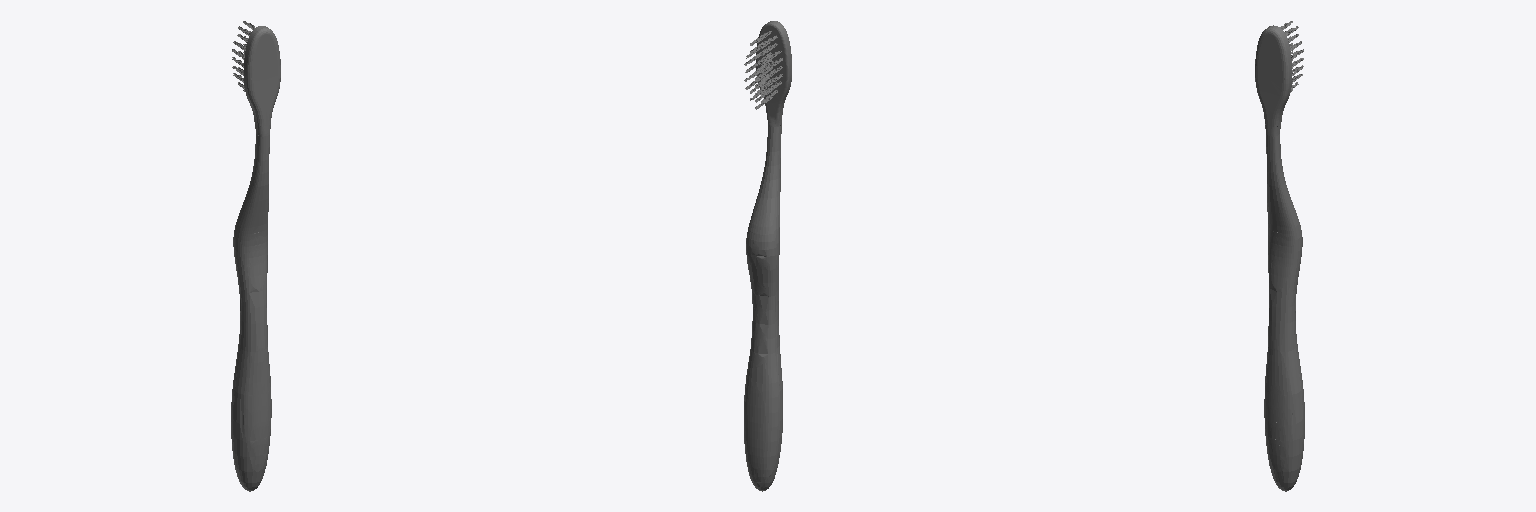
robot.urdf — object:
<?xml version="1.0"?>
<robot name="object">
  <link name="object">
    <visual>
      <origin xyz="0 0 0"/>
      <geometry>
        <mesh
          filename="../../mesh/oakink_virtual/toothbrush_maya2.stl" />
      </geometry>
      <material name="mat">
        <color rgba="0.5 0.5 0.5 1"/>
      </material>
    </visual>

    <collision>
      <origin xyz="0 0 0"/>
      <geometry>
        <mesh
          filename="../../mesh/oakink_virtual/toothbrush_maya2.stl" />
      </geometry>
    </collision>
  </link>
</robot>

--- What the picture shows (computed from the rendered views, not written in the file) ---
3 views of the same robot in one strip: view 1: azimuth 30°, elevation 25°; view 2: azimuth 150°, elevation 25°; view 3: azimuth 330°, elevation 25° (orthographic).
Robot: object — 1 links, 0 joints (none); root link object; default pose: every joint at zero.
Visible links, largest first — view 1: object; view 2: object; view 3: object.
Boxes of the visible links, x1=… form: object: x1=231, y1=21, x2=280, y2=491; object: x1=744, y1=21, x2=791, y2=491; object: x1=1255, y1=21, x2=1304, y2=491.
Bounding box of the posed robot: 0.0124 × 0.0146 × 0.16 m (x, y, z).
1 mesh visuals loaded from 1 distinct referenced files (1 binary STL).